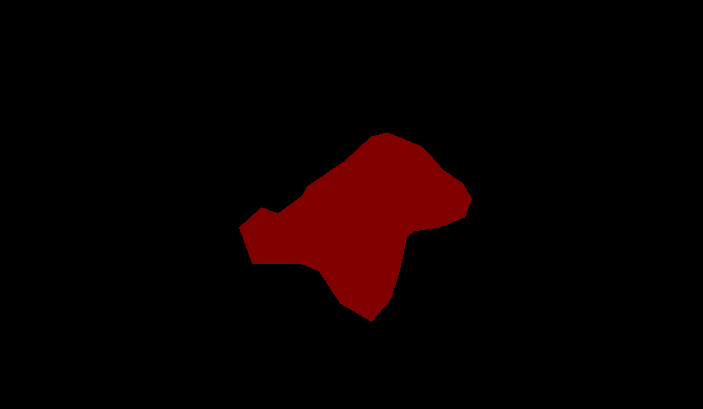fire: (239, 132, 471, 321)
